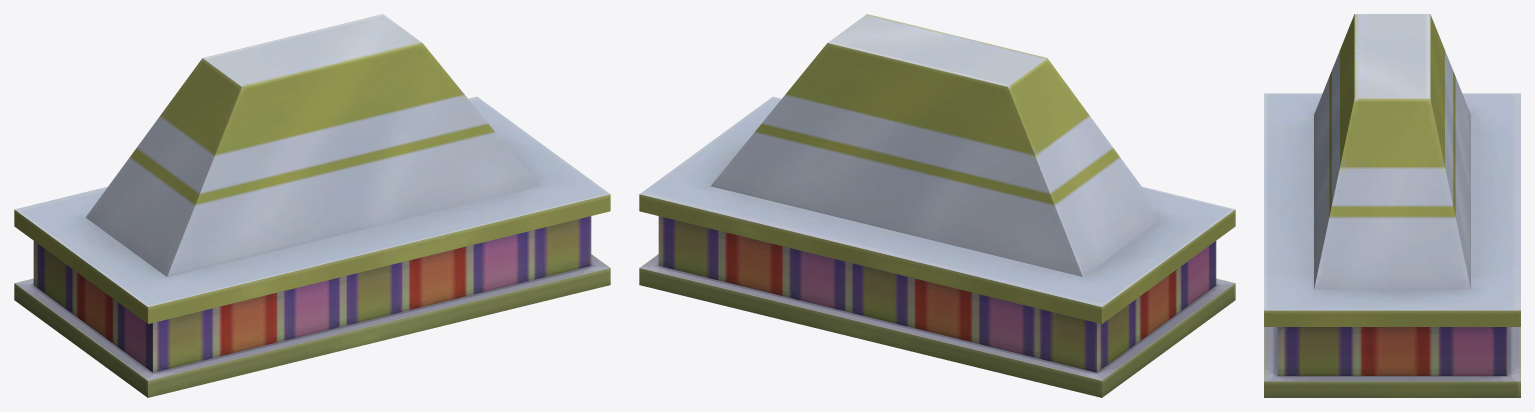
The model's file is furni_0200619.FBX.
3 views of the same model, side by side, from view 1: azimuth 30°, elevation 25°; view 2: azimuth 150°, elevation 25°; view 3: azimuth 270°, elevation 25° (orthographic). The views are drawn at different scales.
Parts seen in each view (by area): view 1: furni_0200619; view 2: furni_0200619; view 3: furni_0200619.
Part boxes in pixels (x1=…): furni_0200619: x1=14, y1=14, x2=610, y2=397; furni_0200619: x1=639, y1=14, x2=1235, y2=397; furni_0200619: x1=1264, y1=14, x2=1520, y2=397.
Size of the model in its own units: 160 by 80.03 by 80.
Materials: 1 (1 with a texture image).
